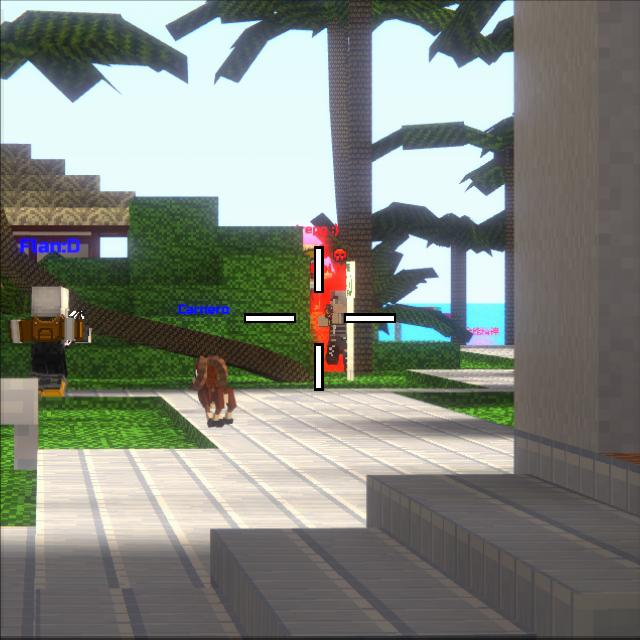Enemy: (318, 291, 346, 372), (302, 243, 314, 292)
